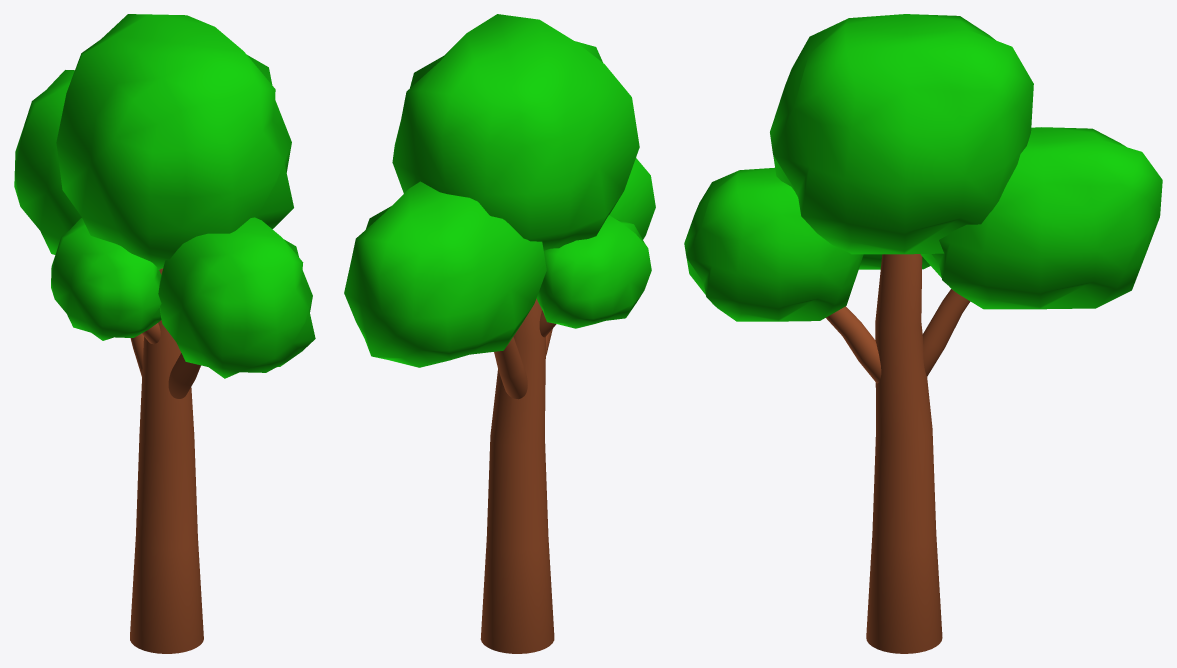
File: arvore.obj
3 renders of one model, left to right at view 1: azimuth 30°, elevation 25°; view 2: azimuth 150°, elevation 25°; view 3: azimuth 270°, elevation 25°, orthographic. The views are drawn at different scales.
Parts seen in each view (by area): view 1: Cube, Cube.002, Cylinder, Cube.003, Cube.001, Cylinder.001; view 2: Cube, Cube.001, Cylinder, Cube.003, Cube.002, Cylinder.002; view 3: Cube, Cube.001, Cylinder, Cube.002, Cylinder.002, Cylinder.001.
Boxes of the visible parts, x1,y1,x2,y2 form: Cube: (56, 14, 293, 269); Cube.002: (158, 217, 315, 378); Cylinder: (130, 268, 203, 653); Cube.003: (51, 218, 161, 340); Cube.001: (14, 70, 81, 254); Cylinder.001: (168, 353, 200, 398); Cube: (392, 14, 639, 250); Cube.001: (344, 181, 546, 367); Cylinder: (480, 298, 554, 653); Cube.003: (536, 215, 651, 328); Cube.002: (609, 158, 655, 239); Cylinder.002: (494, 337, 527, 399); Cube: (770, 14, 1033, 254); Cube.001: (920, 127, 1162, 309); Cylinder: (866, 254, 942, 653); Cube.002: (684, 167, 863, 321); Cylinder.002: (922, 289, 970, 376); Cylinder.001: (826, 306, 881, 383).
Bounding box in the file's own units: 1.52 × 3.92 × 2.76.
